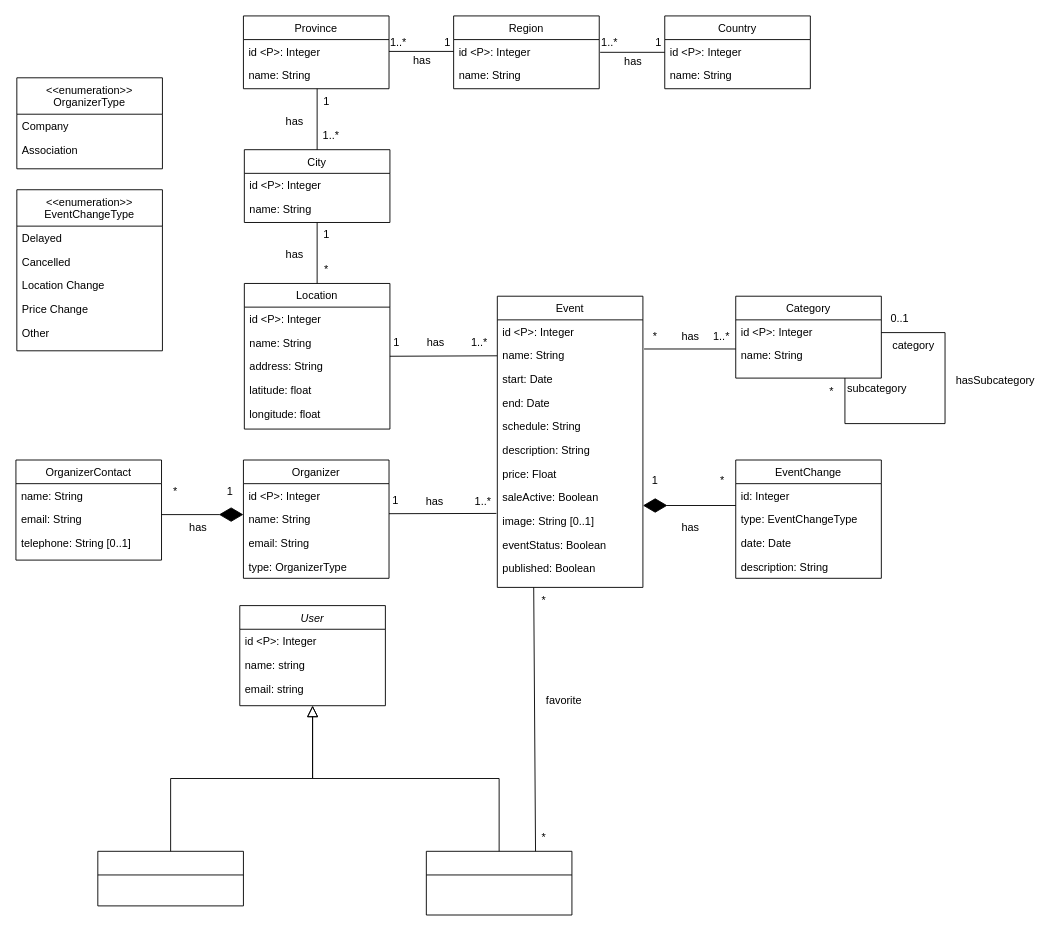
This 1061x931 diagram has some shape labels left out. Here are the shapes that lost their labels. From the top down, the centre of each, then its label:
point 170,878: Administrator
point 498,882: Customer
